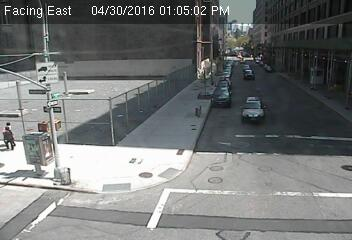neg: (308, 54, 335, 89), (162, 154, 187, 187), (47, 79, 71, 112), (115, 96, 139, 128), (113, 174, 133, 201), (221, 57, 241, 83), (237, 134, 256, 161), (283, 119, 301, 142), (192, 102, 209, 126)
pos: (1, 117, 23, 148)
